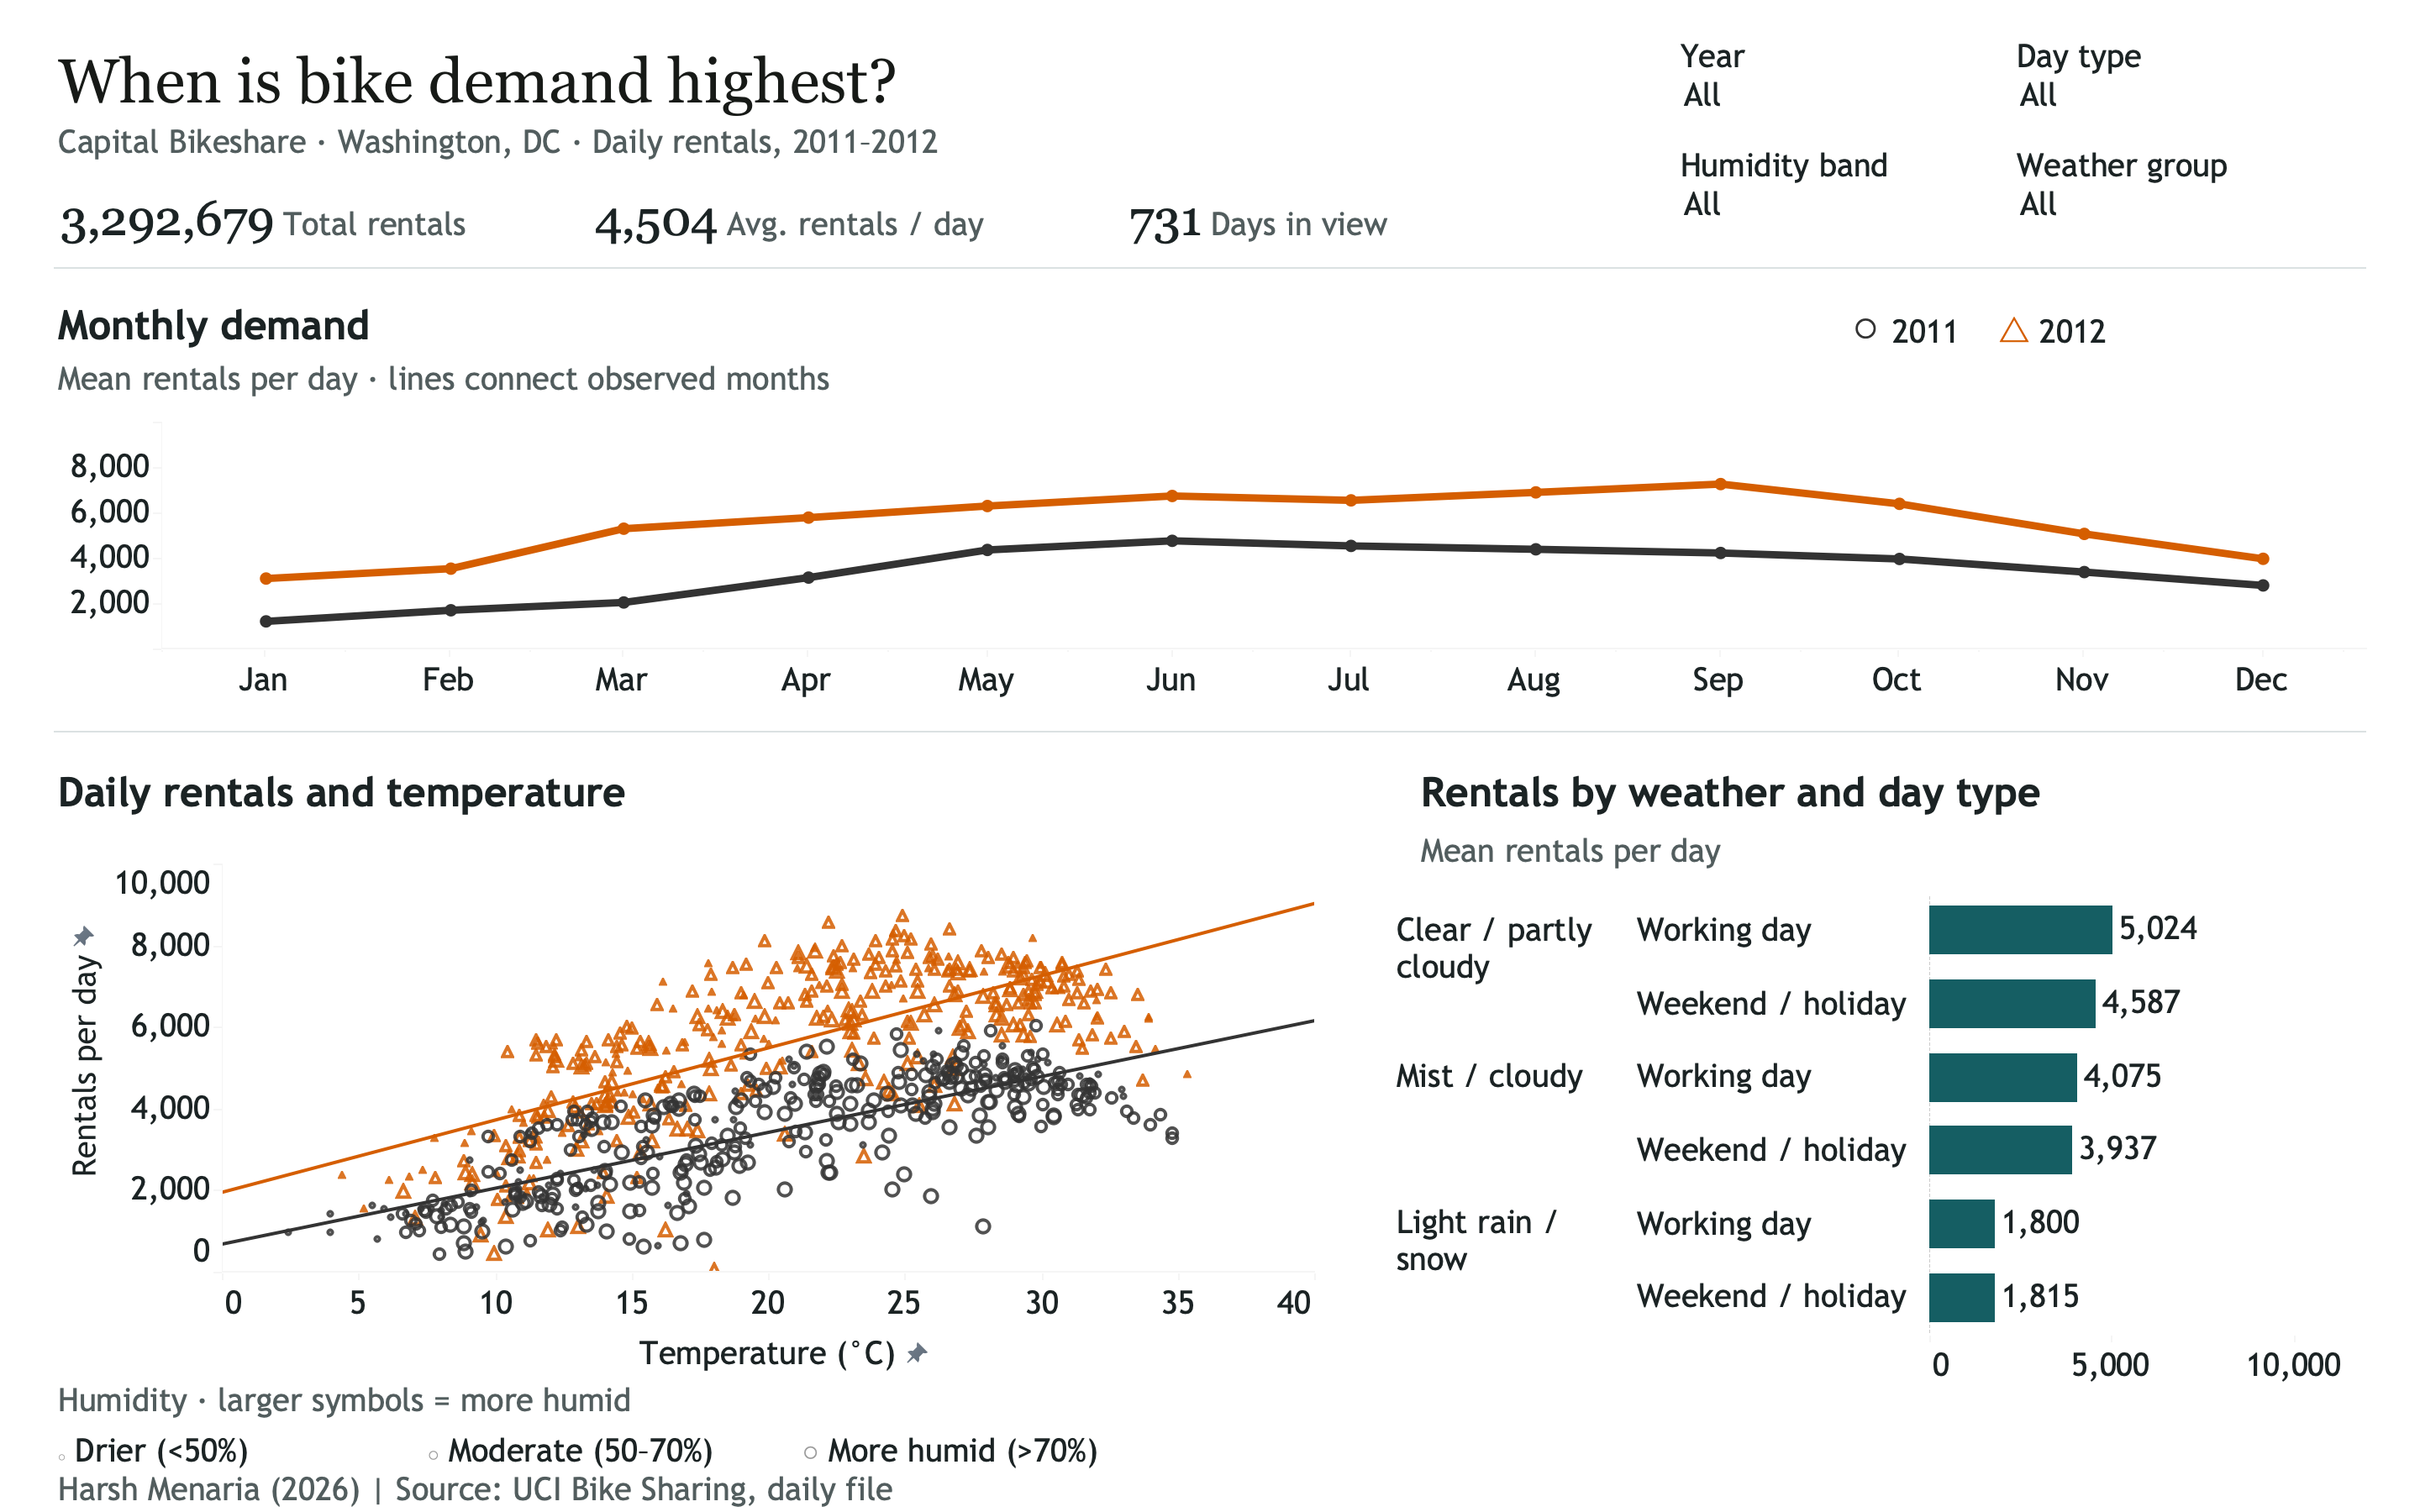

What the dashboard file says about the page in this screenshot:
{"tool":"tableau","page":{"name":"Bike demand | Prototype","canvas":[1440,900],"ordinal":0},"visuals":[{"type":"blank","box":[0,0,1440,900]},{"type":"filter","title":"01 Monthly demand","param":"[federated.bike_demand].[none:Year:nk]","box":[1000,21,180,54]},{"type":"filter","title":"01 Monthly demand","param":"[federated.bike_demand].[none:DayType:nk]","box":[1200,21,208,54]},{"type":"text","box":[32,23,925,52]},{"type":"text","box":[32,86,925,30]},{"type":"filter","title":"02 Temperature and rentals","param":"[federated.bike_demand].[none:Calculation_1907443823489024:nk]","box":[1000,86,180,54]},{"type":"filter","title":"01 Monthly demand","param":"[federated.bike_demand].[none:Weather:nk]","box":[1200,86,208,54]},{"type":"blank","box":[32,159,1376,1]},{"type":"text","box":[1100,178,308,34]},{"type":"text","box":[32,179,1376,29]},{"type":"text","box":[32,214,1376,24]},{"type":"worksheet","title":"01 Monthly demand","mark":"Line","rows":["DailyRentals"],"cols":["Calculation_1435546893139968"],"box":[32,251,1376,165]},{"type":"blank","box":[32,435,1376,1]},{"type":"text","box":[32,457,750,29]},{"type":"text","box":[843,457,565,29]},{"type":"text","box":[843,492,565,30]},{"type":"worksheet","title":"02 Temperature and rentals","mark":"Shape","rows":["DailyRentals"],"cols":["TemperatureC"],"box":[32,514,750,310]},{"type":"worksheet","title":"03 Weather and day type","mark":"Bar","rows":["Weather","DayType"],"cols":["DailyRentals"],"box":[825,532,583,292]},{"type":"text","box":[32,819,600,30]},{"type":"text","box":[32,846,216,35]},{"type":"text","box":[252,846,223.2,35]},{"type":"text","box":[475.2,846,302.4,35]},{"type":"text","box":[32,875,1376,23]}]}

Visuals, with their boxes in screenshot pixels (x1, y1, x2, y2), scaled from the page's 1440x900 canvas onto the 2420x1512 screenshot:
blank: <box>0,0,2419,1511</box>
"01 Monthly demand" filter: <box>1681,35,1983,126</box>
"01 Monthly demand" filter: <box>2017,35,2366,126</box>
text: <box>54,39,1608,126</box>
text: <box>54,144,1608,195</box>
"02 Temperature and rentals" filter: <box>1681,144,1983,235</box>
"01 Monthly demand" filter: <box>2017,144,2366,235</box>
blank: <box>54,267,2366,269</box>
text: <box>1849,299,2366,356</box>
text: <box>54,301,2366,349</box>
text: <box>54,360,2366,400</box>
"01 Monthly demand" worksheet (Line marks): <box>54,422,2366,699</box>
blank: <box>54,731,2366,732</box>
text: <box>54,768,1314,816</box>
text: <box>1417,768,2366,816</box>
text: <box>1417,827,2366,877</box>
"02 Temperature and rentals" worksheet (Shape marks): <box>54,864,1314,1384</box>
"03 Weather and day type" worksheet (Bar marks): <box>1386,894,2366,1384</box>
text: <box>54,1376,1062,1426</box>
text: <box>54,1421,417,1480</box>
text: <box>423,1421,798,1480</box>
text: <box>798,1421,1307,1480</box>
text: <box>54,1470,2366,1509</box>
